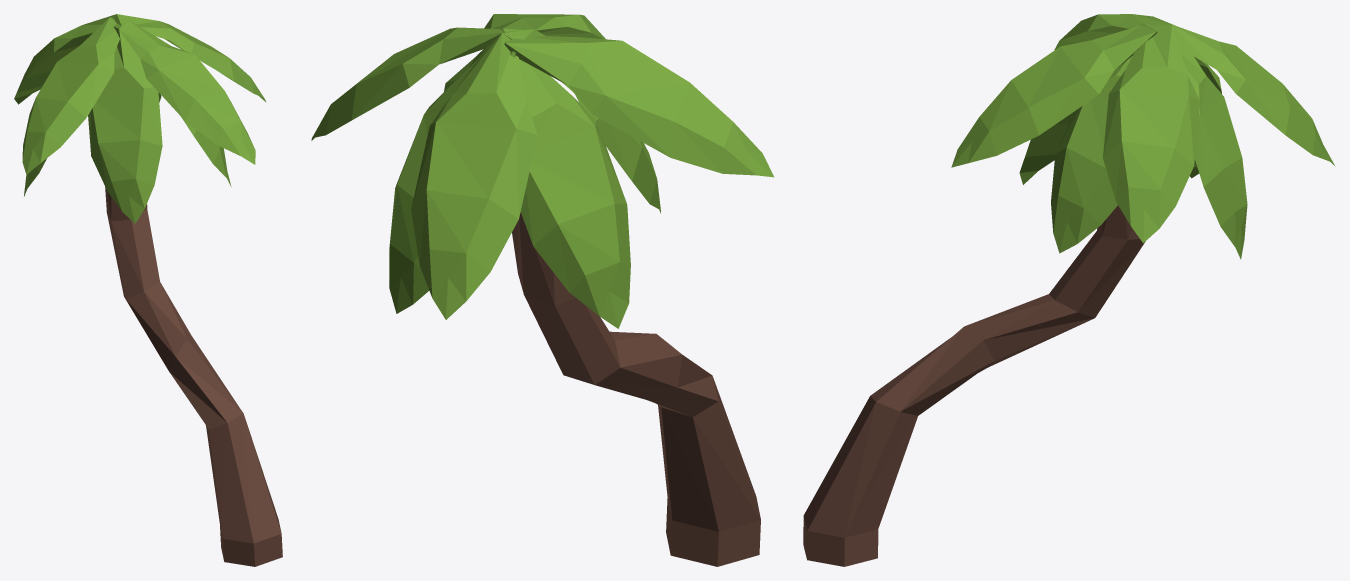
The model's file is palmtree1.glb.
3 renders of one model, left to right at view 1: azimuth 30°, elevation 25°; view 2: azimuth 150°, elevation 25°; view 3: azimuth 270°, elevation 25°, orthographic. The views are drawn at different scales.
Visible parts, largest first — view 1: node_MeshObject538043968-PolyPaper20; view 2: node_MeshObject538043968-PolyPaper20; view 3: node_MeshObject538043968-PolyPaper20.
Part boxes in pixels (<box>): node_MeshObject538043968-PolyPaper20: <box>14,14,282,566</box>; node_MeshObject538043968-PolyPaper20: <box>311,14,773,566</box>; node_MeshObject538043968-PolyPaper20: <box>803,14,1335,566</box>.
Size of the model in its own units: 0.2315 by 0.3554 by 0.3235.
